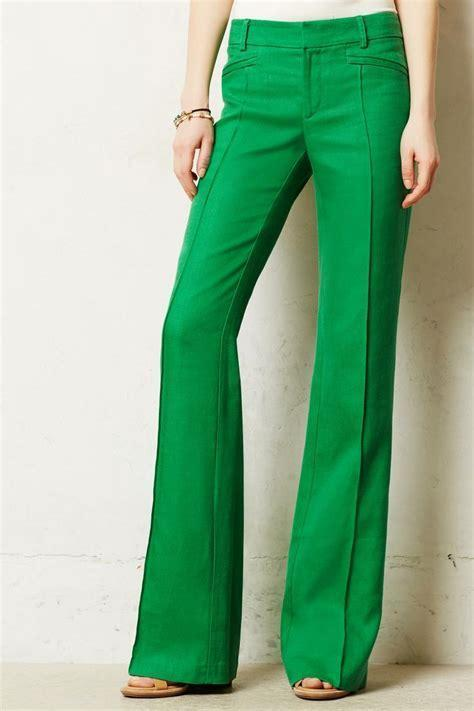pants: (127, 12, 411, 697)
